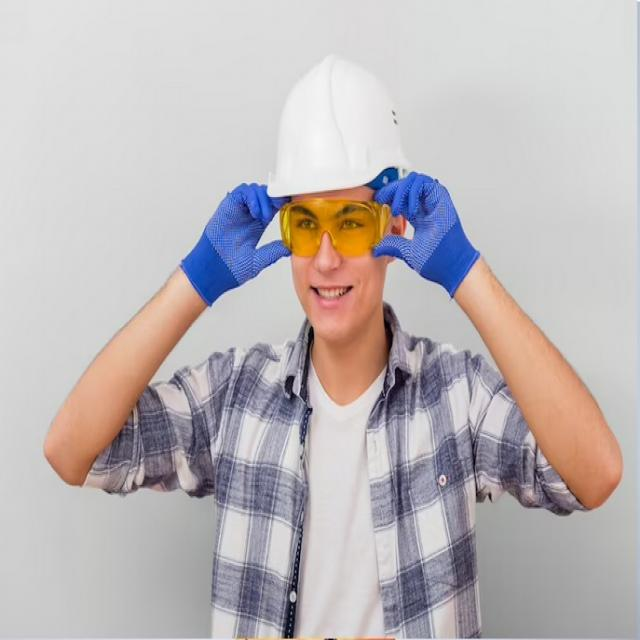helmet: (264, 45, 414, 212)
